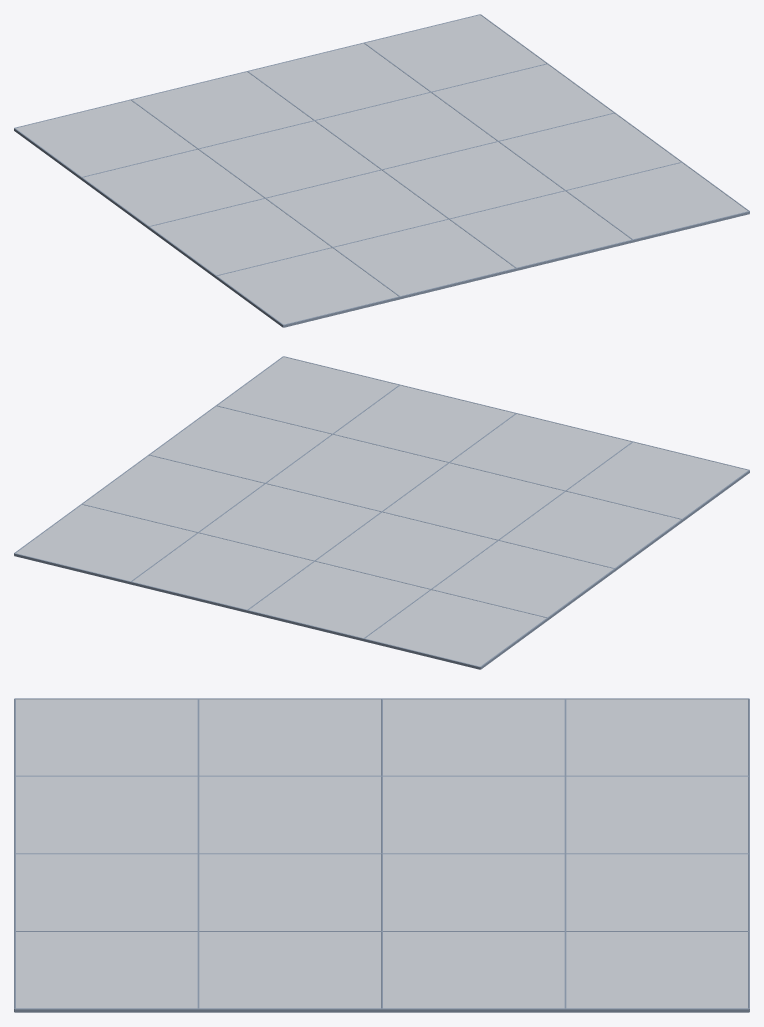
Rendered from floor.glb.
3 views of the same model, one above another, from view 1: azimuth 30°, elevation 25°; view 2: azimuth 150°, elevation 25°; view 3: azimuth 270°, elevation 25° (orthographic). The views are drawn at different scales.
Parts seen in each view (by area): view 1: Floor; view 2: Floor; view 3: Floor.
Boxes of the visible parts, x1,y1,x2,y2 form: Floor: (14,14,749,327); Floor: (14,356,749,669); Floor: (14,698,749,1012).
Bounding box in the file's own units: 4.01 × 0.022 × 4.01.
